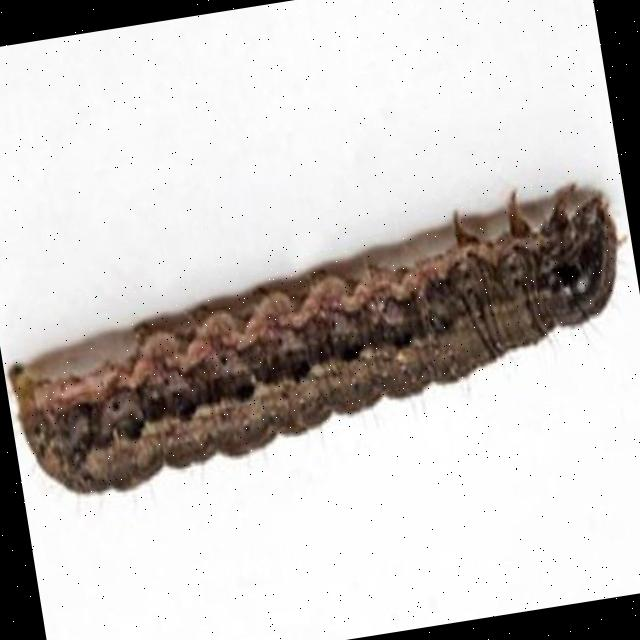worm: (1, 170, 640, 509)
